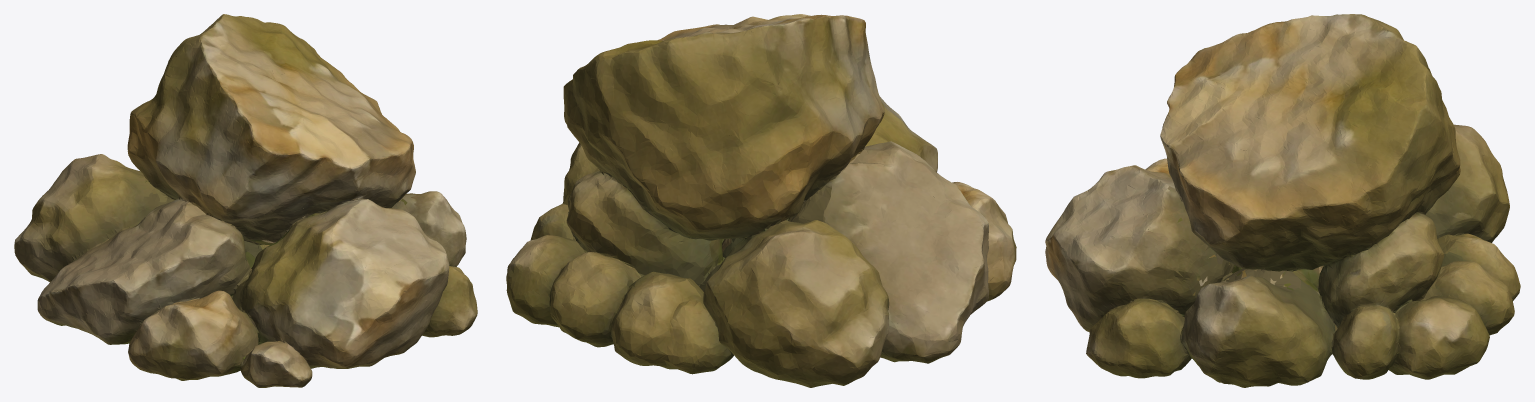
File: prop-rocks_small.glb
The picture shows the model from 3 angles, left to right: view 1: azimuth 30°, elevation 25°; view 2: azimuth 150°, elevation 25°; view 3: azimuth 270°, elevation 25°; orthographic projection. The views are drawn at different scales.
Visible parts, largest first — view 1: geometry_0; view 2: geometry_0; view 3: geometry_0.
Part boxes in pixels (bbox=[...]): geometry_0: bbox=[14, 14, 477, 387]; geometry_0: bbox=[506, 14, 1016, 387]; geometry_0: bbox=[1045, 14, 1520, 387].
Bounding box in the file's own units: 2 × 1.32 × 2.
1 material, 1 textured.
